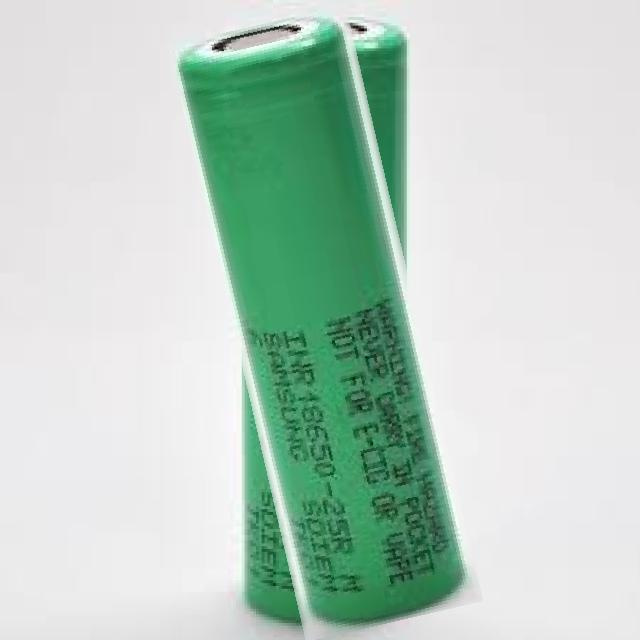Battery: (176, 14, 471, 623), (241, 16, 412, 632)
